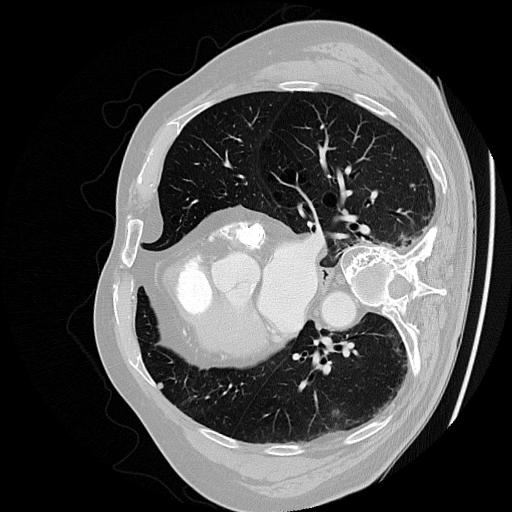nodule: (153, 378, 167, 392)
